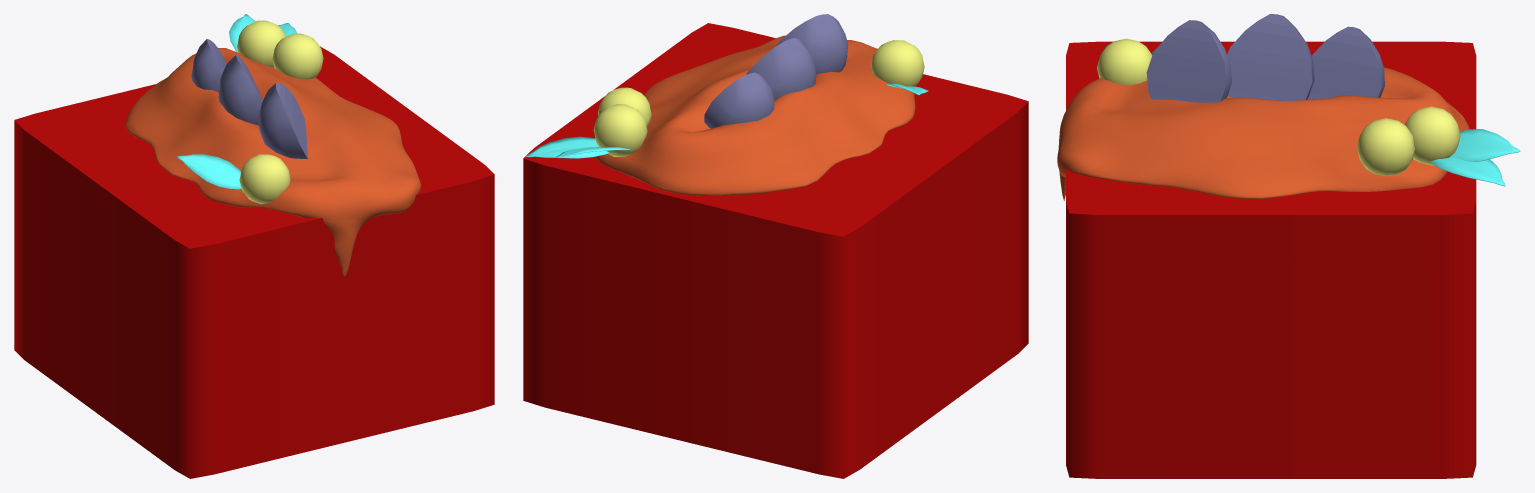
The model's file is Cake_08.fbx.
3 views of the same model, side by side, from view 1: azimuth 30°, elevation 25°; view 2: azimuth 150°, elevation 25°; view 3: azimuth 270°, elevation 25° (orthographic). The views are drawn at different scales.
Parts seen in each view (by area): view 1: Cake_body008, Group25268, Cake_berry004, Cake_berry005, Box008, Box009, Box007, Plane008, Cake_berry006; view 2: Cake_body008, Group25268, Cake_berry006, Cake_berry005, Cake_berry004, Box007, Box008, Plane010, Box009; view 3: Cake_body008, Group25268, Cake_berry005, Cake_berry004, Cake_berry006, Box009, Box007, Box008, Plane011, Plane010.
Boxes of the visible parts, bbox=[...] form: Cake_body008: bbox=[14, 46, 494, 478]; Group25268: bbox=[125, 48, 420, 276]; Cake_berry004: bbox=[258, 83, 308, 158]; Cake_berry005: bbox=[218, 55, 262, 125]; Box008: bbox=[239, 154, 290, 204]; Box009: bbox=[272, 33, 323, 79]; Box007: bbox=[237, 20, 286, 66]; Plane008: bbox=[177, 154, 241, 189]; Cake_berry006: bbox=[191, 39, 226, 92]; Cake_body008: bbox=[523, 23, 1028, 478]; Group25268: bbox=[596, 35, 915, 195]; Cake_berry006: bbox=[704, 72, 774, 128]; Cake_berry005: bbox=[746, 38, 816, 99]; Cake_berry004: bbox=[776, 14, 848, 74]; Box007: bbox=[593, 104, 647, 156]; Box008: bbox=[870, 40, 924, 89]; Plane010: bbox=[525, 136, 609, 158]; Box009: bbox=[597, 87, 651, 125]; Cake_body008: bbox=[1066, 41, 1476, 478]; Group25268: bbox=[1057, 67, 1469, 200]; Cake_berry005: bbox=[1227, 14, 1314, 100]; Cake_berry004: bbox=[1146, 20, 1232, 102]; Cake_berry006: bbox=[1308, 26, 1384, 99]; Box009: bbox=[1356, 118, 1414, 176]; Box007: bbox=[1404, 106, 1460, 165]; Box008: bbox=[1097, 38, 1152, 85]; Plane011: bbox=[1451, 129, 1520, 161]; Plane010: bbox=[1430, 156, 1505, 186].
Size of the model in its own units: 38.8 by 38.55 by 43.79.
